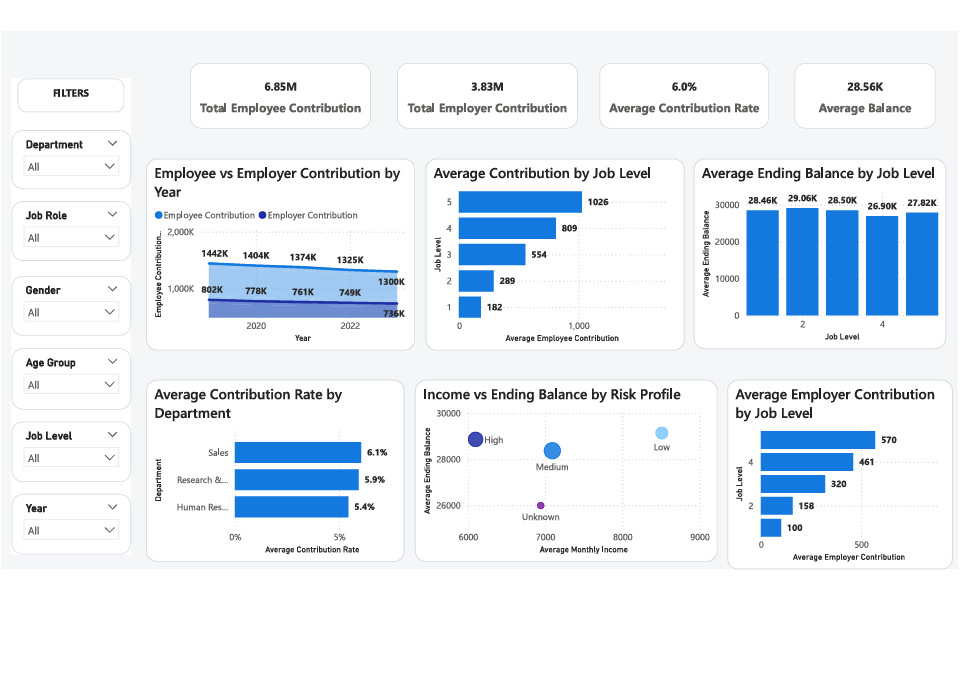

The page's visual inventory and layout, read from the dashboard file:
{"tool":"powerbi","page":{"name":"Contribution & Savings Behavior","canvas":[1280,720],"ordinal":3},"visuals":[{"type":"card","fields":{"Values":["fact_contribution_monthly.Employee Contribution"]},"box":[251.7,41.6,242.1,88.5],"z":0},{"type":"card","fields":{"Values":["fact_contribution_monthly.Employer Contribution"]},"box":[529.1,41.6,242.1,88.5],"z":1000},{"type":"textbox","box":[20.7,63.4,142.8,45],"z":1000,"group":"g1"},{"type":"card","fields":{"Values":["fact_contribution_monthly.Average Contribution Rate"]},"box":[800,41.6,227.2,88.5],"z":2000},{"type":"card","fields":{"Values":["fact_balance_monthly.Avg Balance"]},"box":[1061.3,41.6,188.8,88.5],"z":3000},{"type":"areaChart","title":"Employee vs Employer Contribution by Year","fields":{"Category":["dim_date.year_num"],"Y":["fact_contribution_monthly.Employee Contribution","fact_contribution_monthly.Employer Contribution"]},"box":[193.1,169.6,359.5,257.1],"z":4000},{"type":"slicer","fields":{"Values":["dim_employee.department"]},"box":[12.8,132.4,160,79.2],"z":5000,"group":"g1"},{"type":"clusteredBarChart","title":"Average Contribution by Job Level","fields":{"Category":["dim_employee.Job Level"],"Y":["fact_contribution_monthly.Average Employee Contribution"]},"box":[567.5,169.6,346.7,257.1],"z":5000},{"type":"barChart","title":"Average Contribution Rate by Department","fields":{"Category":["dim_employee.Department"],"Y":["fact_contribution_monthly.Average Contribution Rate"]},"box":[193.1,466.1,345.6,244.3],"z":6000},{"type":"clusteredColumnChart","title":"Average Ending Balance by Job Level","fields":{"Category":["dim_employee.Job Level"],"Y":["Avg(fact_balance_monthly.ending_balance)"]},"box":[925.9,169.6,338.1,254.9],"z":7000},{"type":"slicer","fields":{"Values":["dim_employee.gender"]},"box":[12.8,327.3,160,80.2],"z":7000,"group":"g1"},{"type":"scatterChart","title":"Income vs Ending Balance by Risk Profile","fields":{"X":["Avg(dim_employee.monthly_income)"],"Y":["Avg(fact_balance_monthly.ending_balance)"],"Series":["dim_employee.Investment Risk Profile"],"Size":["Count(fact_balance_monthly.employee_key)"]},"box":[552.5,466.1,405.3,244.3],"z":8000},{"type":"slicer","fields":{"Values":["dim_employee.job_role"]},"box":[12.8,227.8,160,79.2],"z":9000,"group":"g1"},{"type":"clusteredBarChart","title":"Average Employer Contribution by Job Level","fields":{"Category":["dim_employee.Job Level"],"Y":["fact_contribution_monthly.Average Employer Contribution"]},"box":[970.7,466.1,301.9,253.9],"z":9000},{"type":"group","id":"g1","title":"Group 1","box":[12.8,63.4,160,637.4],"z":10000},{"type":"slicer","fields":{"Values":["dim_employee.Age Group"]},"box":[12.8,424.7,160,81.2],"z":12000,"group":"g1"},{"type":"slicer","fields":{"Values":["dim_employee.Job Level"]},"box":[12.8,522.2,160,81.2],"z":13000,"group":"g1"},{"type":"slicer","fields":{"Values":["dim_date.year_num"]},"box":[12.8,619.6,160,81.2],"z":14000,"group":"g1"}]}

Visuals, with their boxes on the page's 1280x720 design canvas (x1, y1, x2, y2). These are canvas units, not pixel positions in the 967x679 screenshot, which may show the page scaled, cropped or inside an application window:
card - fact_contribution_monthly.Employee Contribution: (left=252, top=42, right=494, bottom=130)
card - fact_contribution_monthly.Employer Contribution: (left=529, top=42, right=771, bottom=130)
textbox: (left=21, top=63, right=164, bottom=108)
card - fact_contribution_monthly.Average Contribution Rate: (left=800, top=42, right=1027, bottom=130)
card - fact_balance_monthly.Avg Balance: (left=1061, top=42, right=1250, bottom=130)
"Employee vs Employer Contribution by Year" areaChart: (left=193, top=170, right=553, bottom=427)
slicer - dim_employee.department: (left=13, top=132, right=173, bottom=212)
"Average Contribution by Job Level" clusteredBarChart: (left=568, top=170, right=914, bottom=427)
"Average Contribution Rate by Department" barChart: (left=193, top=466, right=539, bottom=710)
"Average Ending Balance by Job Level" clusteredColumnChart: (left=926, top=170, right=1264, bottom=424)
slicer - dim_employee.gender: (left=13, top=327, right=173, bottom=408)
"Income vs Ending Balance by Risk Profile" scatterChart: (left=552, top=466, right=958, bottom=710)
slicer - dim_employee.job_role: (left=13, top=228, right=173, bottom=307)
"Average Employer Contribution by Job Level" clusteredBarChart: (left=971, top=466, right=1273, bottom=720)
"Group 1" group: (left=13, top=63, right=173, bottom=701)
slicer - dim_employee.Age Group: (left=13, top=425, right=173, bottom=506)
slicer - dim_employee.Job Level: (left=13, top=522, right=173, bottom=603)
slicer - dim_date.year_num: (left=13, top=620, right=173, bottom=701)
